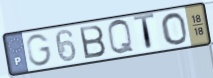6: (54, 28, 79, 64)
B: (78, 23, 108, 61)
G: (25, 33, 54, 68)
O: (159, 11, 189, 46)
Q: (105, 18, 136, 57)
T: (132, 12, 157, 53)
